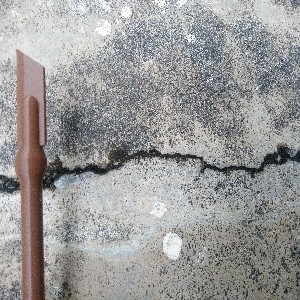cutter: (14, 48, 48, 300)
